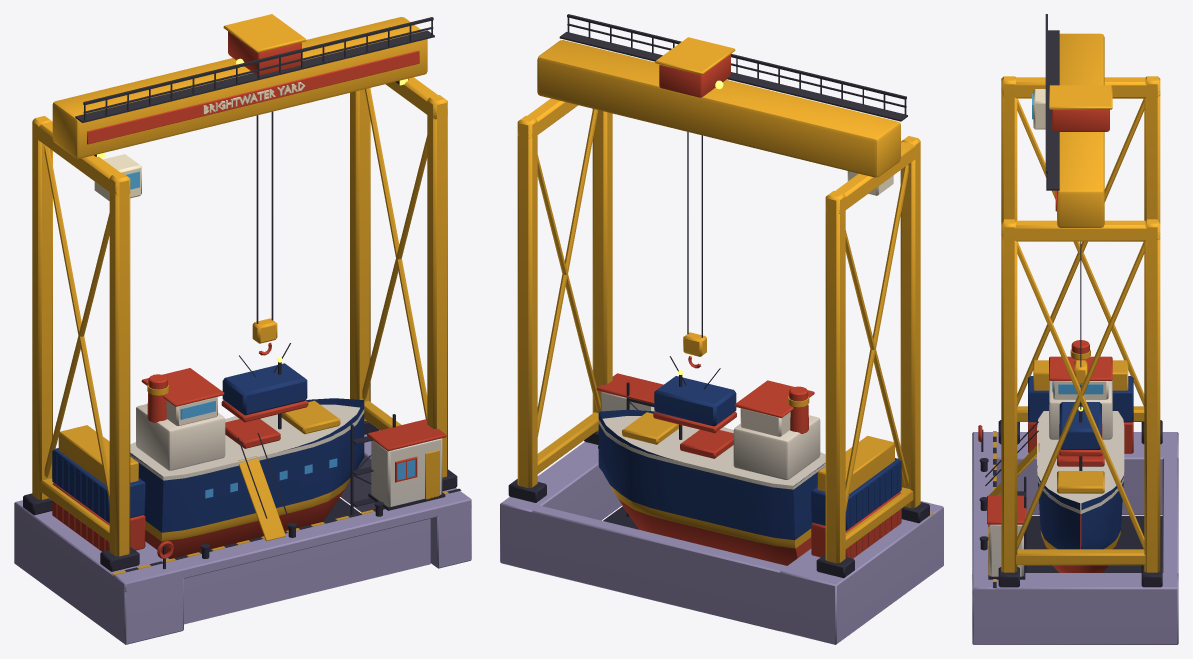
File: shipyard.glb
3 views of the same model, side by side, from view 1: azimuth 30°, elevation 25°; view 2: azimuth 150°, elevation 25°; view 3: azimuth 270°, elevation 25° (orthographic). The views are drawn at different scales.
Parts seen in each view (by area): view 1: shipyard; view 2: shipyard; view 3: shipyard.
Part boxes in pixels (x1,y1,x2,y2): shipyard: (14, 14, 471, 644); shipyard: (500, 14, 943, 644); shipyard: (972, 14, 1178, 644).
Bounding box in the file's own units: 14.2 × 20.32 × 7.8.
